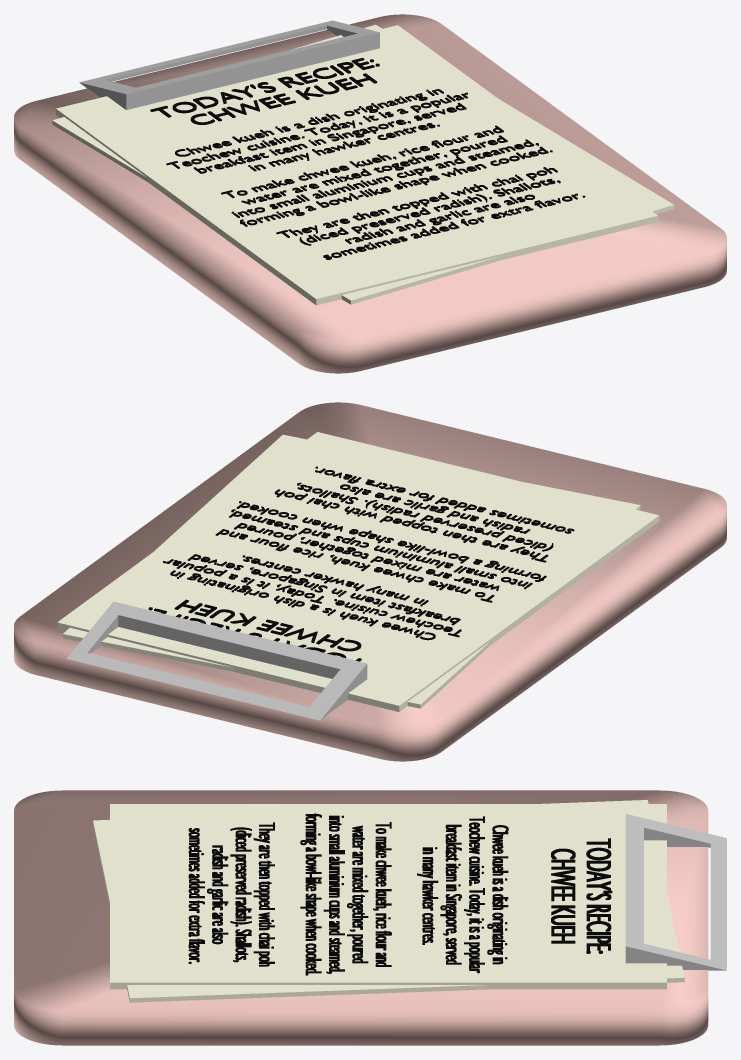
Rendered from ckclipboard.fbx.
3 renders of one model, top to bottom at view 1: azimuth 30°, elevation 25°; view 2: azimuth 150°, elevation 25°; view 3: azimuth 270°, elevation 25°, orthographic. The views are drawn at different scales.
Visible parts, largest first — view 1: Cube.001, obj_0.002, Text.001, Cube, Cube.002, Text.002; view 2: Cube.001, obj_0.002, Text.001, Cube, Cube.002, Text.002; view 3: Cube.001, obj_0.002, Text.001, Cube, Cube.002, Text.002.
Boxes of the visible parts, left/top/right/bottom form: Cube.001: left=56, top=25, right=658, bottom=305; obj_0.002: left=14, top=14, right=726, bottom=373; Text.001: left=166, top=89, right=585, bottom=259; Cube: left=79, top=20, right=379, bottom=109; Cube.002: left=52, top=24, right=674, bottom=304; Text.002: left=150, top=58, right=379, bottom=124; Cube.001: left=57, top=432, right=659, bottom=711; obj_0.002: left=14, top=402, right=726, bottom=761; Text.001: left=163, top=466, right=574, bottom=640; Cube: left=66, top=601, right=367, bottom=720; Cube.002: left=63, top=434, right=640, bottom=708; Text.002: left=148, top=599, right=361, bottom=661; Cube.001: left=110, top=804, right=666, bottom=989; obj_0.002: left=14, top=790, right=708, bottom=1045; Text.001: left=188, top=813, right=508, bottom=975; Cube: left=625, top=814, right=726, bottom=970; Cube.002: left=93, top=800, right=684, bottom=1002; Text.002: left=551, top=838, right=612, bottom=953.
Size of the model in its own units: 263 by 32.69 by 360.
